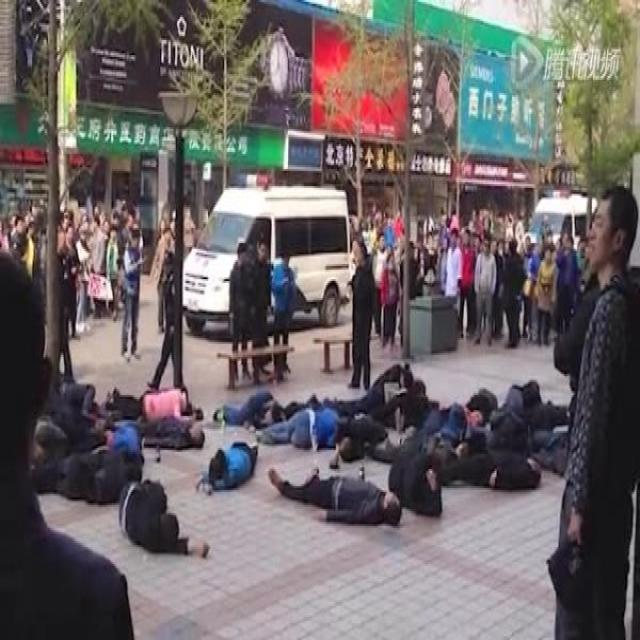10-: (1, 4, 638, 627)
down: (265, 458, 403, 534), (118, 467, 200, 574), (33, 435, 141, 507), (28, 368, 100, 448), (386, 435, 445, 532), (440, 446, 550, 498), (259, 389, 346, 452), (351, 346, 421, 414), (334, 407, 405, 468), (419, 397, 484, 463), (195, 424, 266, 484), (502, 368, 568, 429), (110, 372, 199, 412), (133, 410, 209, 454), (208, 378, 286, 418), (473, 406, 528, 456)
